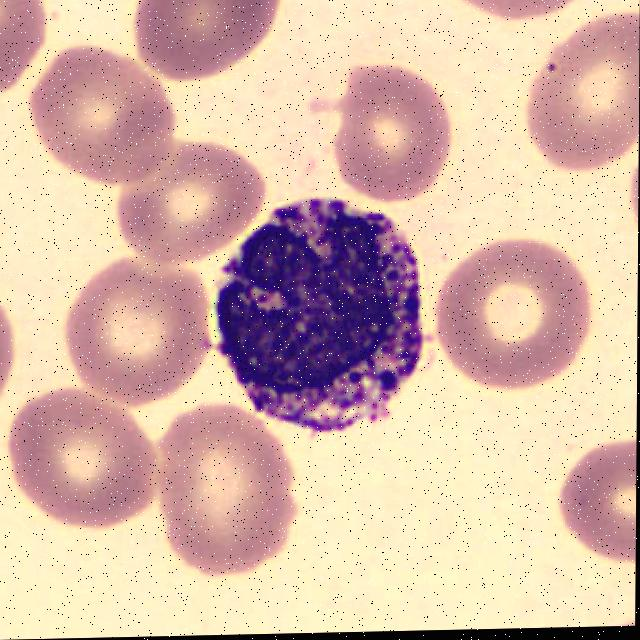basophil: (212, 188, 425, 449)
rbc: (427, 235, 600, 398), (156, 410, 304, 577), (65, 259, 215, 413), (6, 387, 157, 530), (31, 51, 174, 190), (325, 61, 452, 203), (530, 26, 640, 181), (112, 148, 258, 253), (558, 431, 637, 590), (129, 0, 286, 77), (0, 0, 48, 101), (452, 0, 578, 37), (0, 289, 18, 410), (623, 158, 638, 259), (601, 613, 635, 626)
